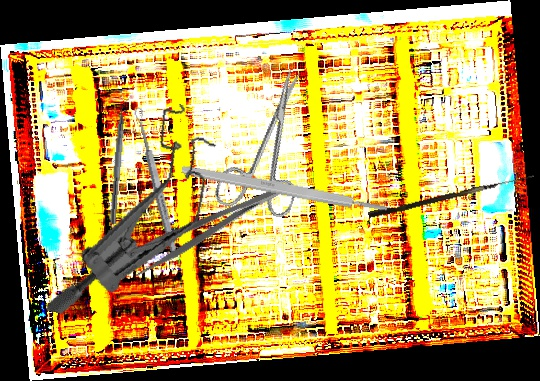Chopper: (109, 94, 134, 225)
Dressing Forceps: (124, 183, 288, 278)
Hook Surgical: (367, 168, 535, 221)
Iris Scissors: (212, 59, 334, 226)
Scalpel Handle: (180, 163, 389, 216)
Speculum: (42, 85, 226, 338)
Surgical Spoon: (132, 106, 180, 255)
